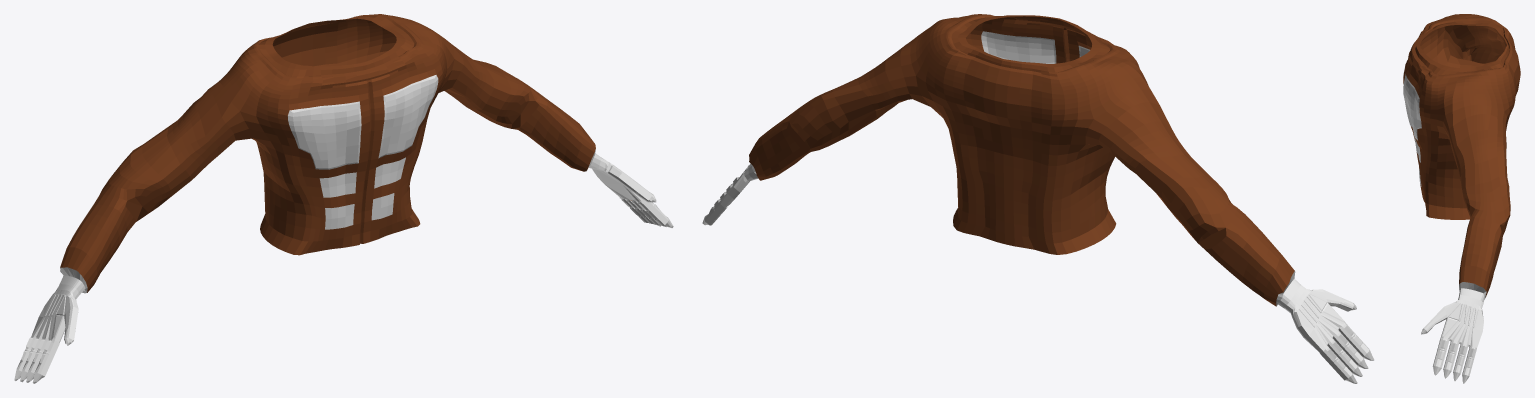
File: Body.fbx
The picture shows the model from 3 angles, left to right: view 1: azimuth 30°, elevation 25°; view 2: azimuth 150°, elevation 25°; view 3: azimuth 270°, elevation 25°; orthographic projection. The views are drawn at different scales.
Visible parts, largest first — view 1: BODY; view 2: BODY; view 3: BODY.
Part boxes in pixels (bbox=[...]): BODY: bbox=[14, 14, 673, 383]; BODY: bbox=[702, 14, 1374, 383]; BODY: bbox=[1403, 14, 1520, 383].
Bounding box in the file's own units: 407 × 158 × 79.12.
